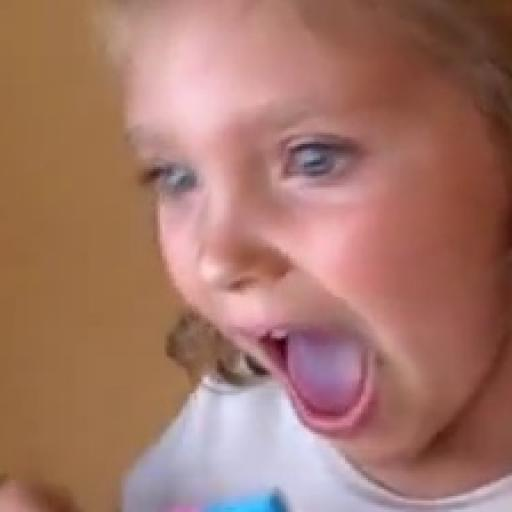Autism: (77, 0, 512, 512)
